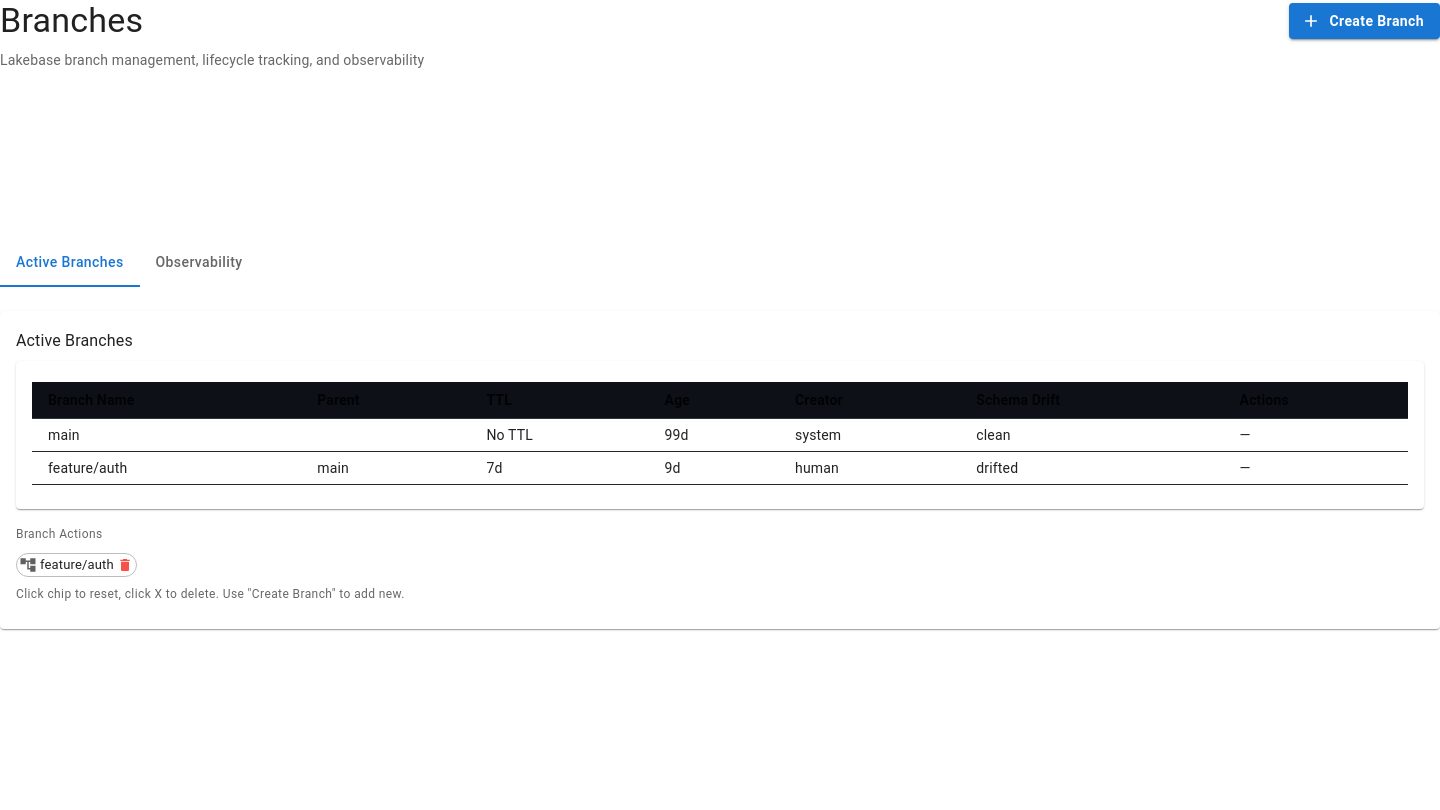
it: Branches page › shows create branch button and opens dialog
Click the button "Create Branch" at (1365, 21), box [1290, 3, 1439, 39]
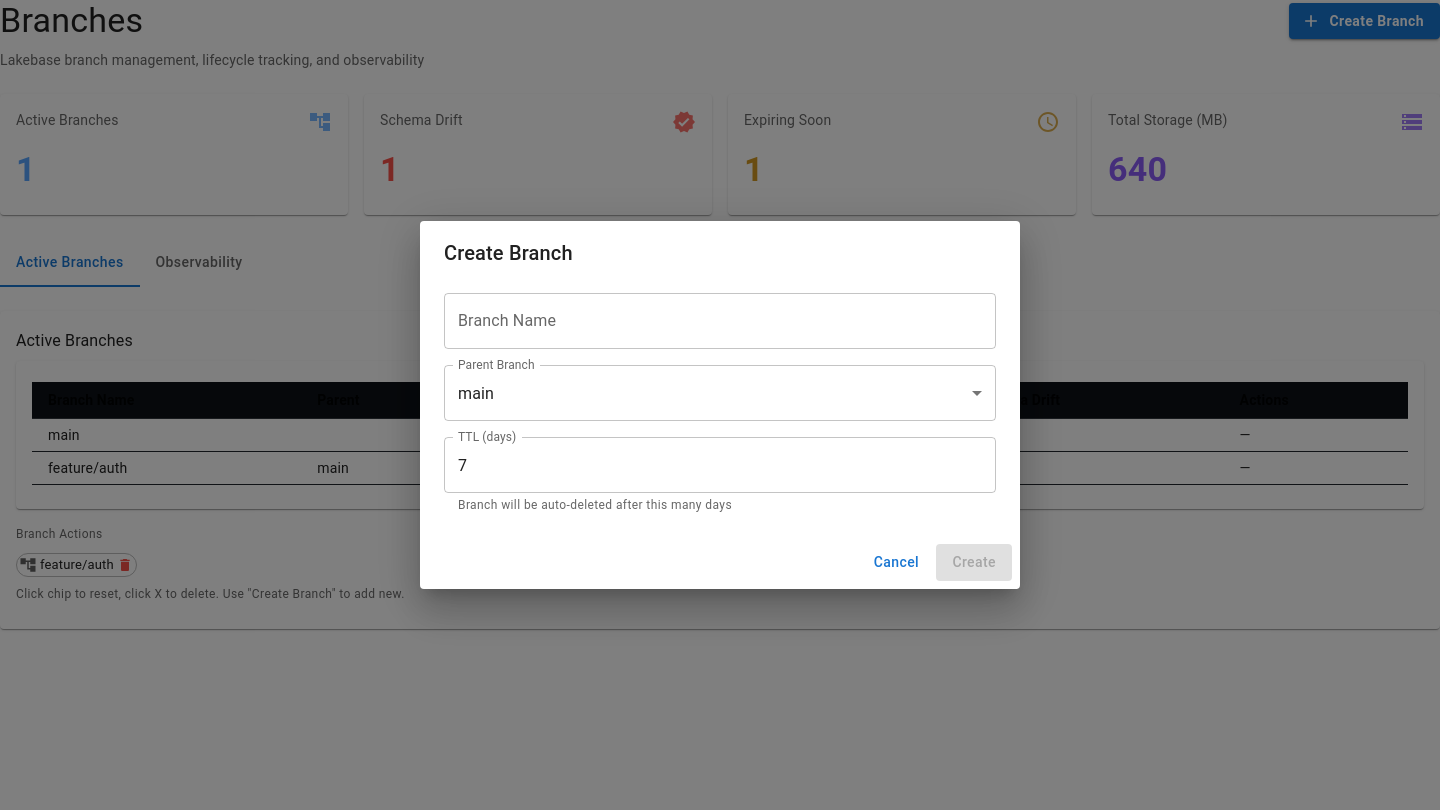
expect the field labelled "Branch Name" is shown: met, box [444, 293, 996, 349]
